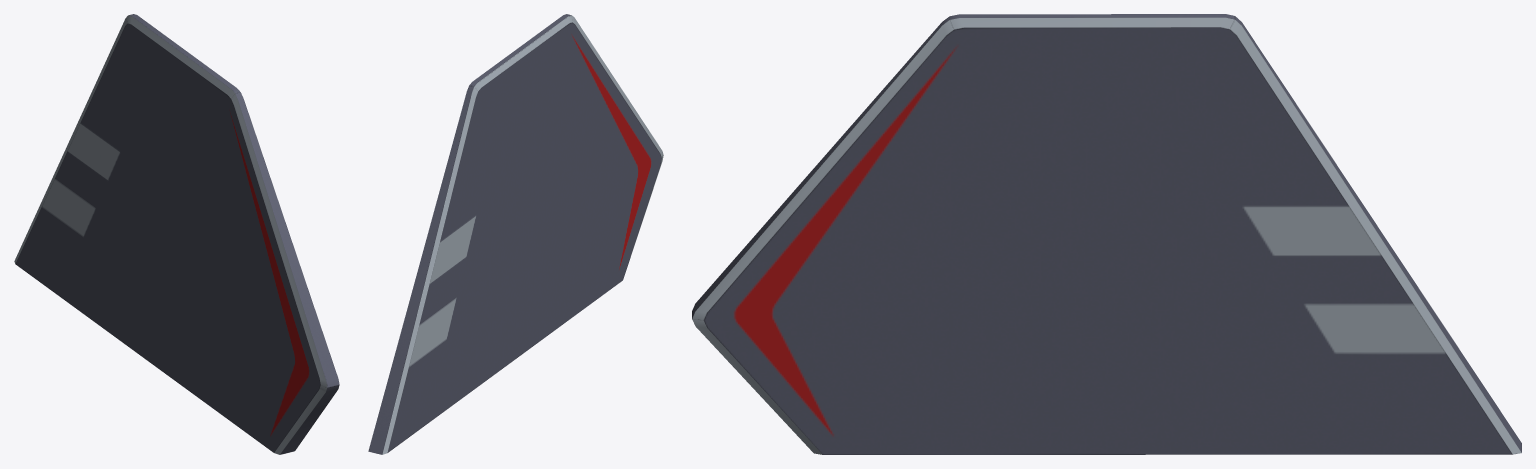
The model's file is Wing_06.FBX.
3 renders of one model, left to right at view 1: azimuth 30°, elevation 25°; view 2: azimuth 150°, elevation 25°; view 3: azimuth 270°, elevation 25°, orthographic. The views are drawn at different scales.
Parts seen in each view (by area): view 1: Wing_06; view 2: Wing_06; view 3: Wing_06.
Boxes of the visible parts, x1,y1,x2,y2 form: Wing_06: [14, 14, 339, 454]; Wing_06: [368, 14, 663, 454]; Wing_06: [692, 14, 1521, 454].
Size of the model in its own units: 0.2089 by 3.16 by 5.49.
